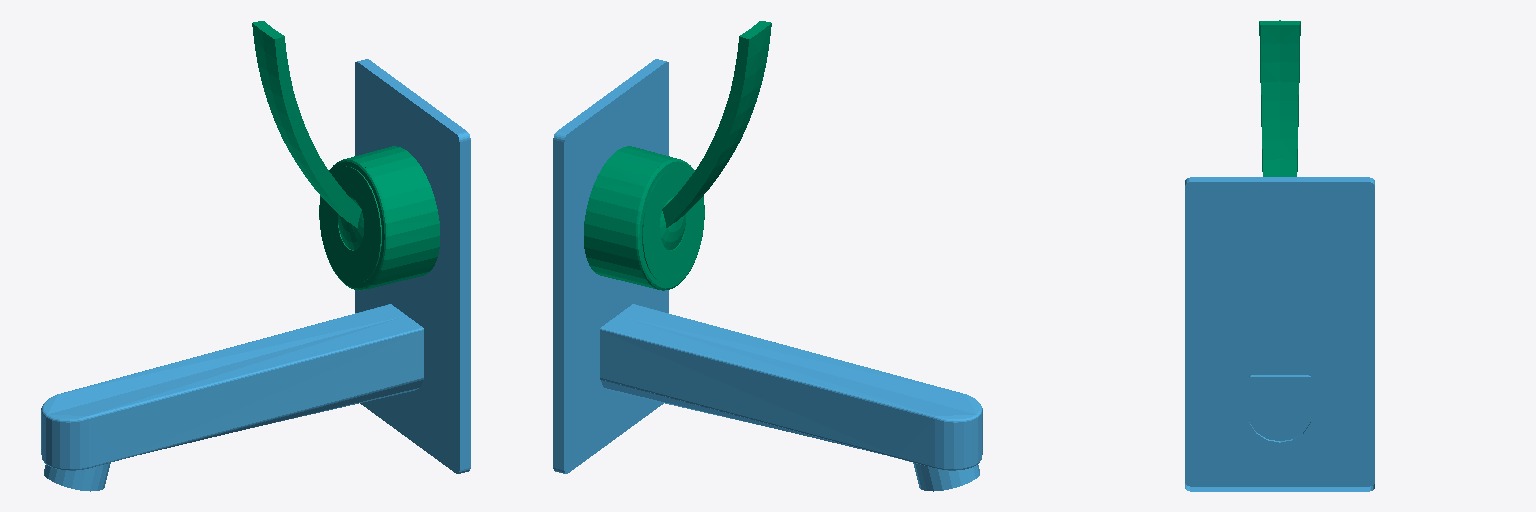
URDF robot description (partnet_e08f50bf9a0b4776b362845c6edb57fc):
<?xml version="1.0" ?>
<robot name="partnet_e08f50bf9a0b4776b362845c6edb57fc">
	<link name="base"/>
	<link name="link_0">
		<visual name="surface_base-7">
			<origin xyz="0 0 0"/>
			<geometry>
				<mesh filename="textured_objs/original-5.obj"/>
			</geometry>
		</visual>
		<visual name="tube-5">
			<origin xyz="0 0 0"/>
			<geometry>
				<mesh filename="textured_objs/original-1.obj"/>
			</geometry>
		</visual>
		<visual name="mouth-6">
			<origin xyz="0 0 0"/>
			<geometry>
				<mesh filename="textured_objs/original-6.obj"/>
			</geometry>
		</visual>
		<collision>
			<origin xyz="0 0 0"/>
			<geometry>
				<mesh filename="textured_objs/original-5.obj"/>
			</geometry>
		</collision>
		<collision>
			<origin xyz="0 0 0"/>
			<geometry>
				<mesh filename="textured_objs/original-1.obj"/>
			</geometry>
		</collision>
		<collision>
			<origin xyz="0 0 0"/>
			<geometry>
				<mesh filename="textured_objs/original-6.obj"/>
			</geometry>
		</collision>
	</link>
	<joint name="joint_0" type="fixed">
		<origin rpy="1.570796326794897 0 -1.570796326794897" xyz="0 0 0"/>
		<child link="link_0"/>
		<parent link="base"/>
	</joint>
	<link name="link_1">
		<visual name="switch-2">
			<origin xyz="-0.002402499999999988 -0.2182582448922033 0"/>
			<geometry>
				<mesh filename="textured_objs/original-3.obj"/>
			</geometry>
		</visual>
		<visual name="switch-2">
			<origin xyz="-0.002402499999999988 -0.2182582448922033 0"/>
			<geometry>
				<mesh filename="textured_objs/original-4.obj"/>
			</geometry>
		</visual>
		<visual name="horizontal_support-8">
			<origin xyz="-0.002402499999999988 -0.2182582448922033 0"/>
			<geometry>
				<mesh filename="textured_objs/original-2.obj"/>
			</geometry>
		</visual>
		<collision>
			<origin xyz="-0.002402499999999988 -0.2182582448922033 0"/>
			<geometry>
				<mesh filename="textured_objs/original-3.obj"/>
			</geometry>
		</collision>
		<collision>
			<origin xyz="-0.002402499999999988 -0.2182582448922033 0"/>
			<geometry>
				<mesh filename="textured_objs/original-4.obj"/>
			</geometry>
		</collision>
		<collision>
			<origin xyz="-0.002402499999999988 -0.2182582448922033 0"/>
			<geometry>
				<mesh filename="textured_objs/original-2.obj"/>
			</geometry>
		</collision>
	</link>
	<joint name="joint_1" type="revolute">
		<origin xyz="0.002402499999999988 0.2182582448922033 0"/>
		<axis xyz="0 0 -1"/>
		<child link="link_1"/>
		<parent link="link_0"/>
		<limit lower="-1.5707963267948966" upper="1.5707963267948966"/>
	</joint>
</robot>

--- Render facts (derived) ---
3 views of the same robot in one strip: view 1: azimuth 30°, elevation 25°; view 2: azimuth 150°, elevation 25°; view 3: azimuth 270°, elevation 25° (orthographic).
Model partnet_e08f50bf9a0b4776b362845c6edb57fc with 3 links and 2 joints (1 revolute, 1 fixed), rooted at base, posed every joint at zero.
Visible links, largest first — view 1: link_0, link_1; view 2: link_0, link_1; view 3: link_0, link_1.
Boxes of the visible links, left/top/right/bottom form: link_0: left=41, top=59, right=470, bottom=491; link_1: left=252, top=21, right=439, bottom=290; link_0: left=553, top=59, right=982, bottom=491; link_1: left=584, top=21, right=771, bottom=290; link_0: left=1185, top=177, right=1374, bottom=491; link_1: left=1259, top=20, right=1300, bottom=176.
Size in the robot's own frame: 1.3 by 0.6356 by 1.48 metres.
6 mesh visuals loaded from 6 distinct referenced files (6 OBJ).
